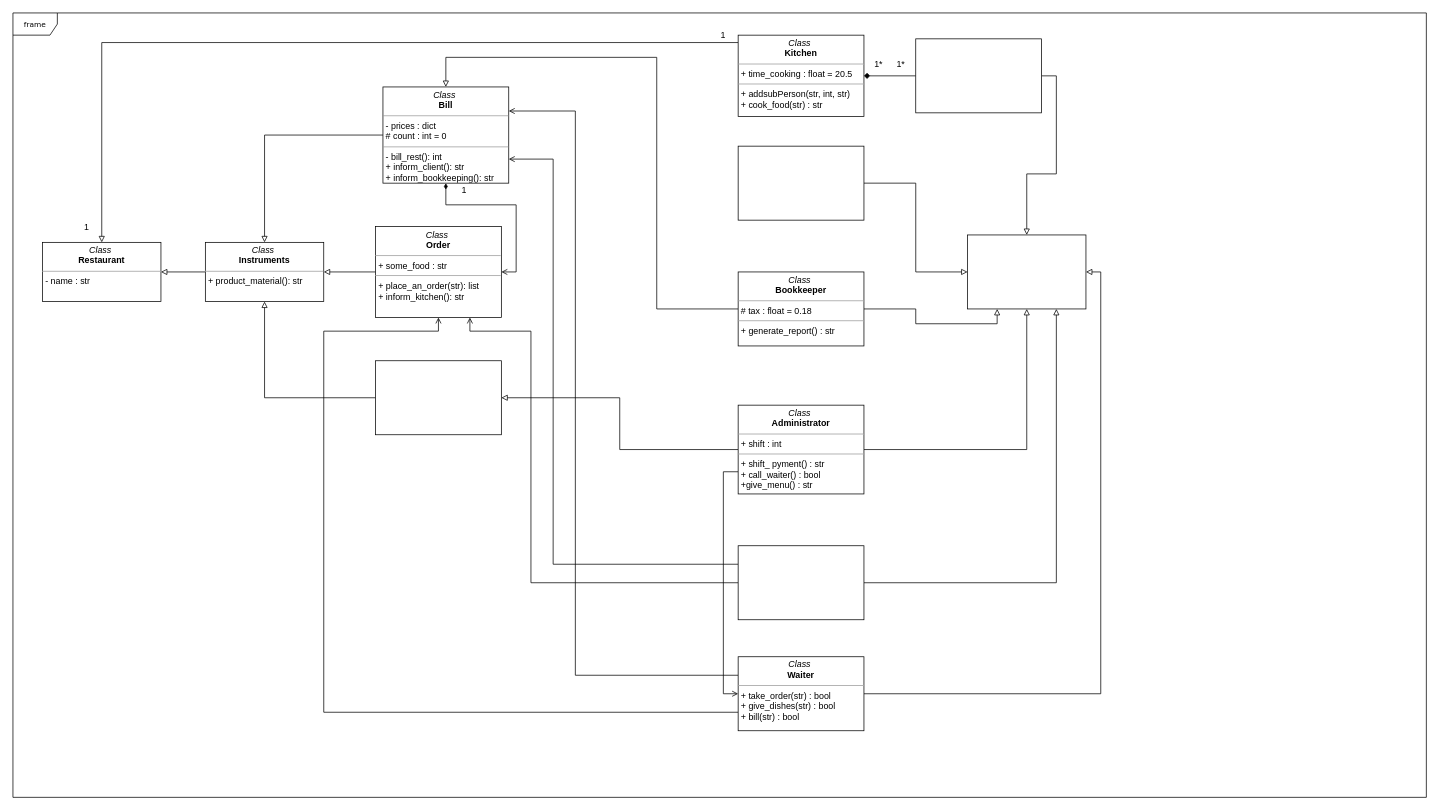
Image size: 1439x810. Some labels were removed from this diagram. Here are the shapes that lost their labels. From the top down, the centre of each, then its label:
At (x=978, y=75): "Class Cook + timing : int = 3 + job() : int".
At (x=800, y=182): "Class Wardrobe + num_of_place : int = 50 + take_clothes(int) : str".
At (x=1026, y=271): "Class Person + name : str + age : int + gender : str".
At (x=438, y=397): "Class Menu + show_items() : list + set_date(str) : str + get_date() : str".
At (x=800, y=582): "Class Deliver + drive() : bool + give_food(str) : bool + bill(str) : bool".
